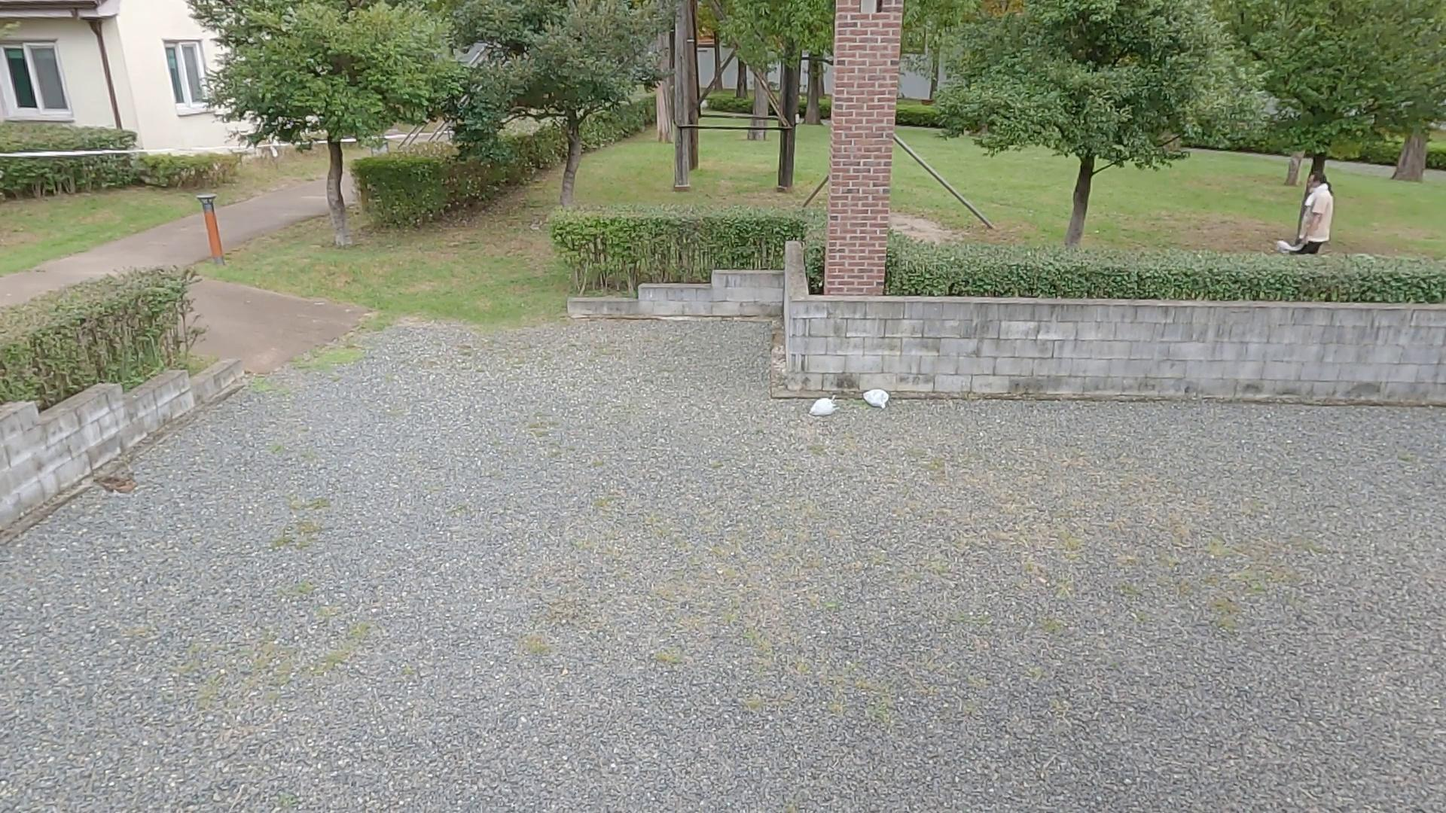trash: (1295, 171, 1336, 259), (863, 388, 890, 410), (810, 395, 838, 415)
